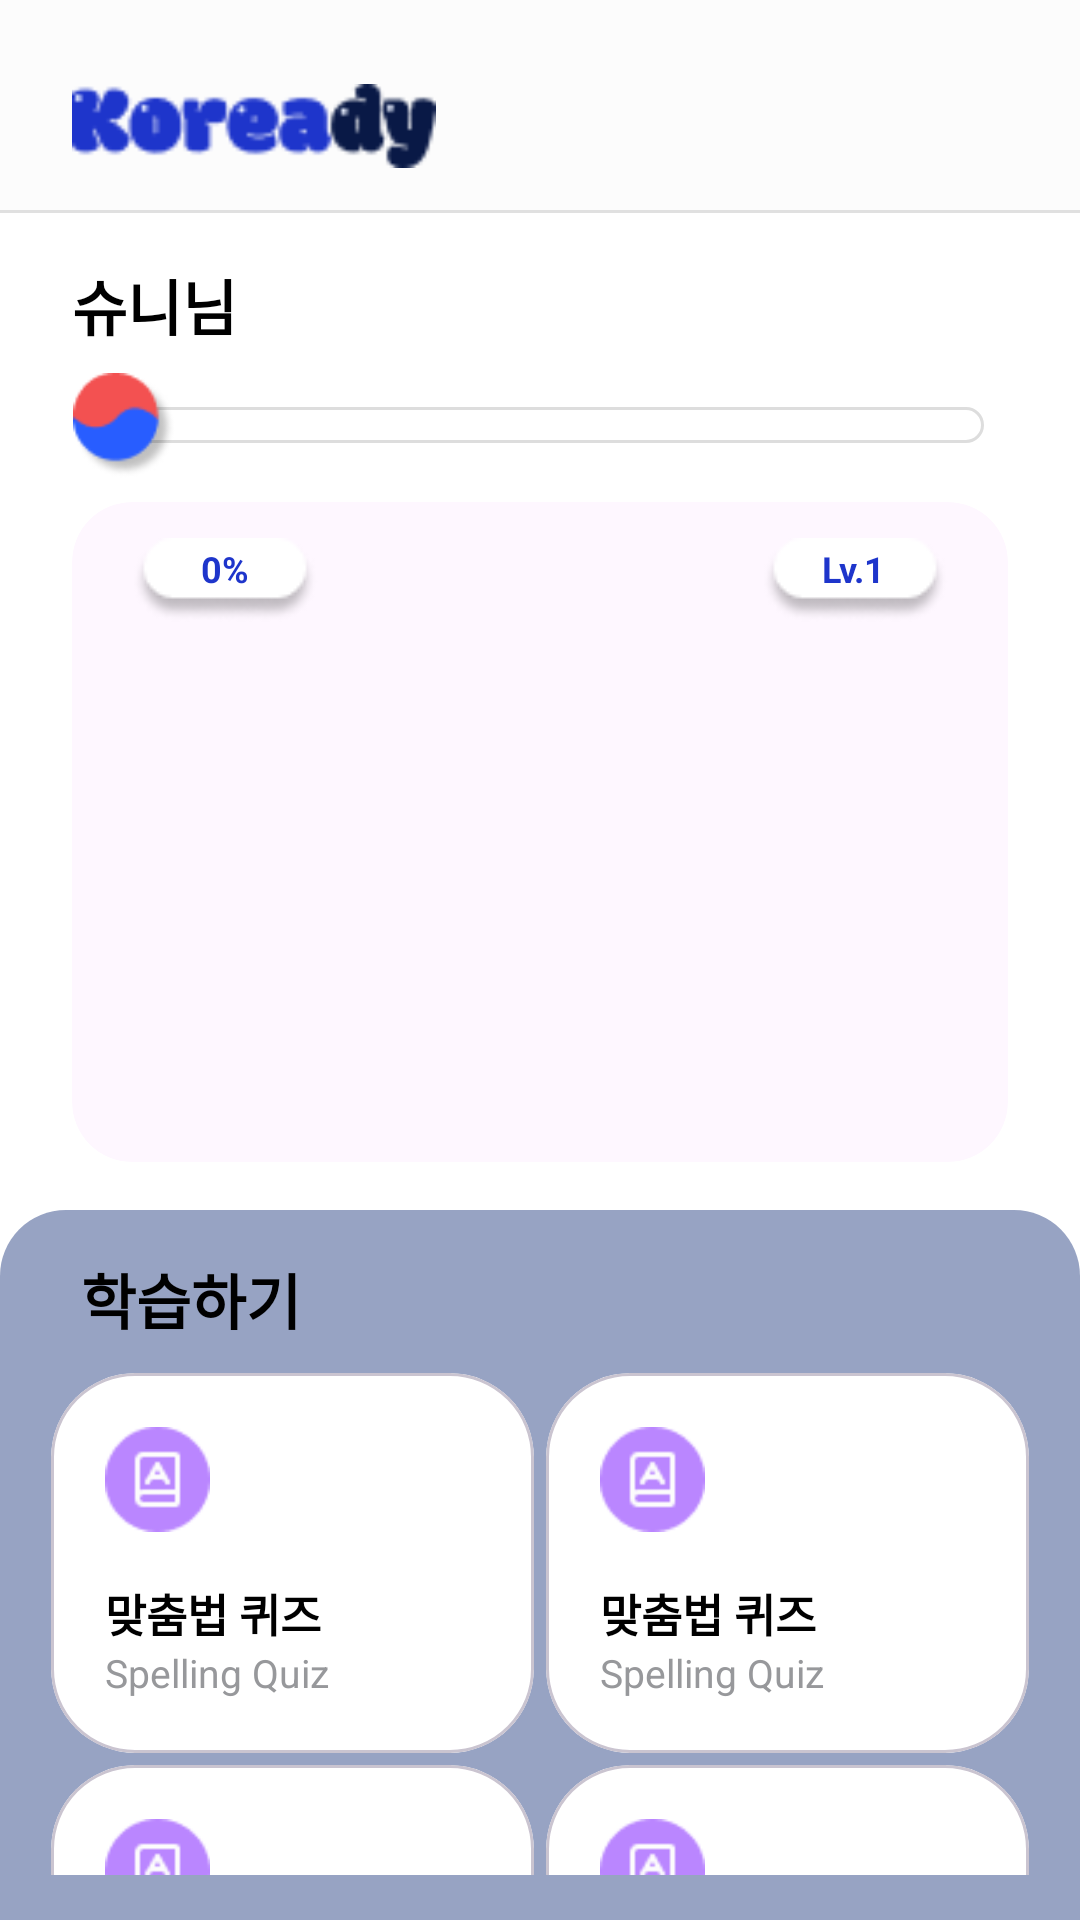

Named icons in this screenshot (1080w x 1920h) and their bounding boxes, [left=x1, top=y1, right=x2, bottom=y2]:
korean flag: [left=73, top=373, right=177, bottom=470]
